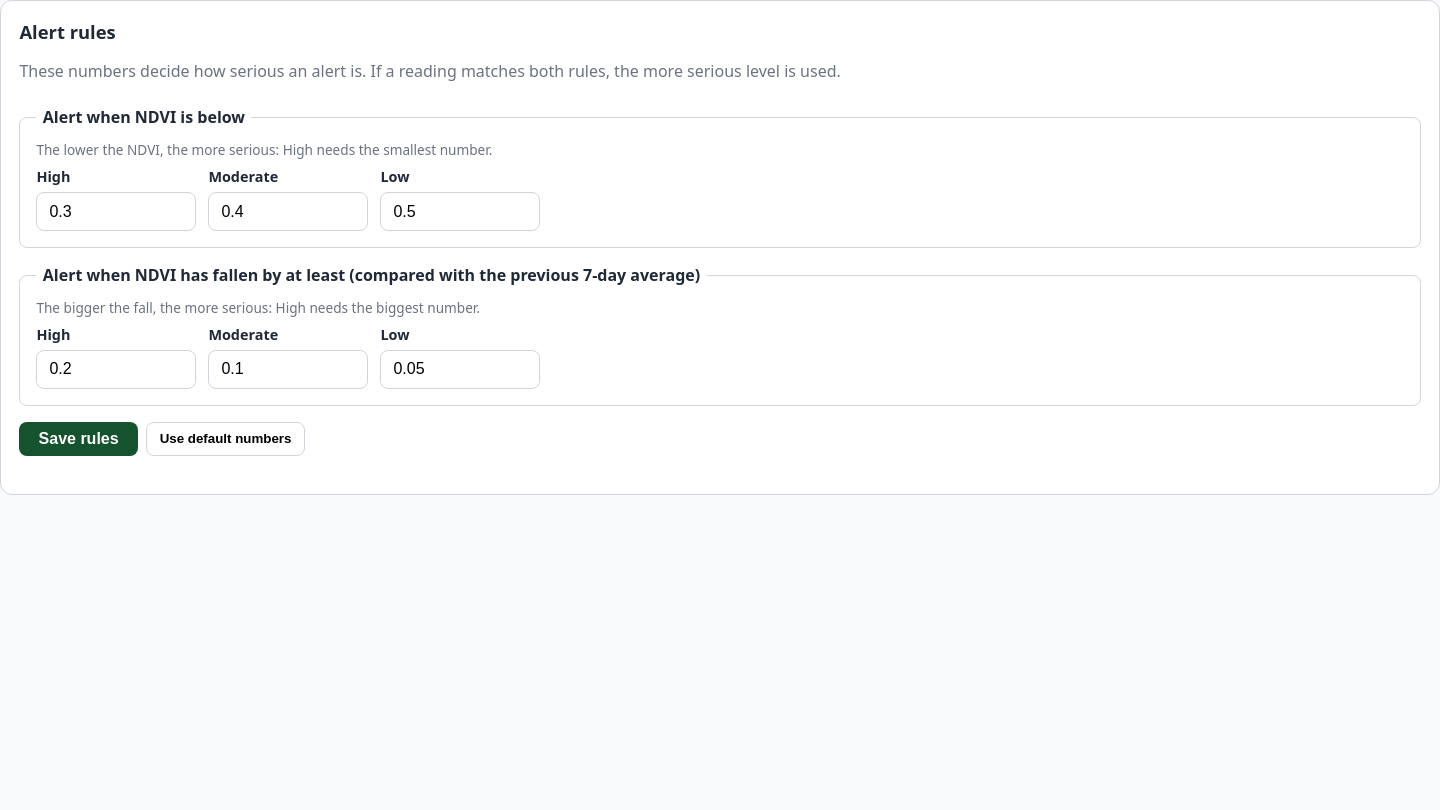
Test case: AlertRulesPanel Component Tests › should save input values as numbers and display a success status message
Replace the text in the number field labelled "High" below "Alert when NDVI is below" with "0.25": (116, 212) [36,192,196,231]
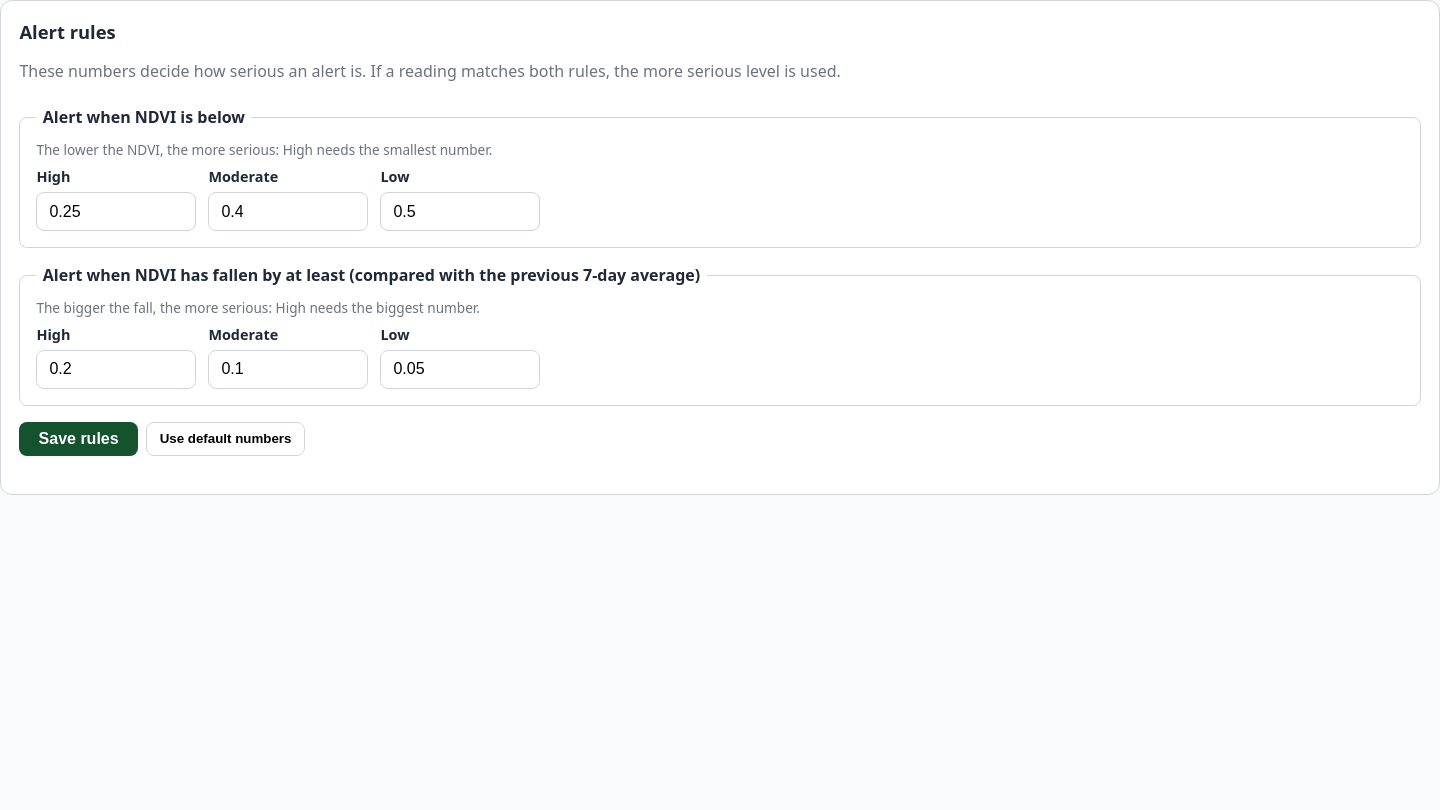
Click the button "Save rules": (79, 439) [19,422,138,456]
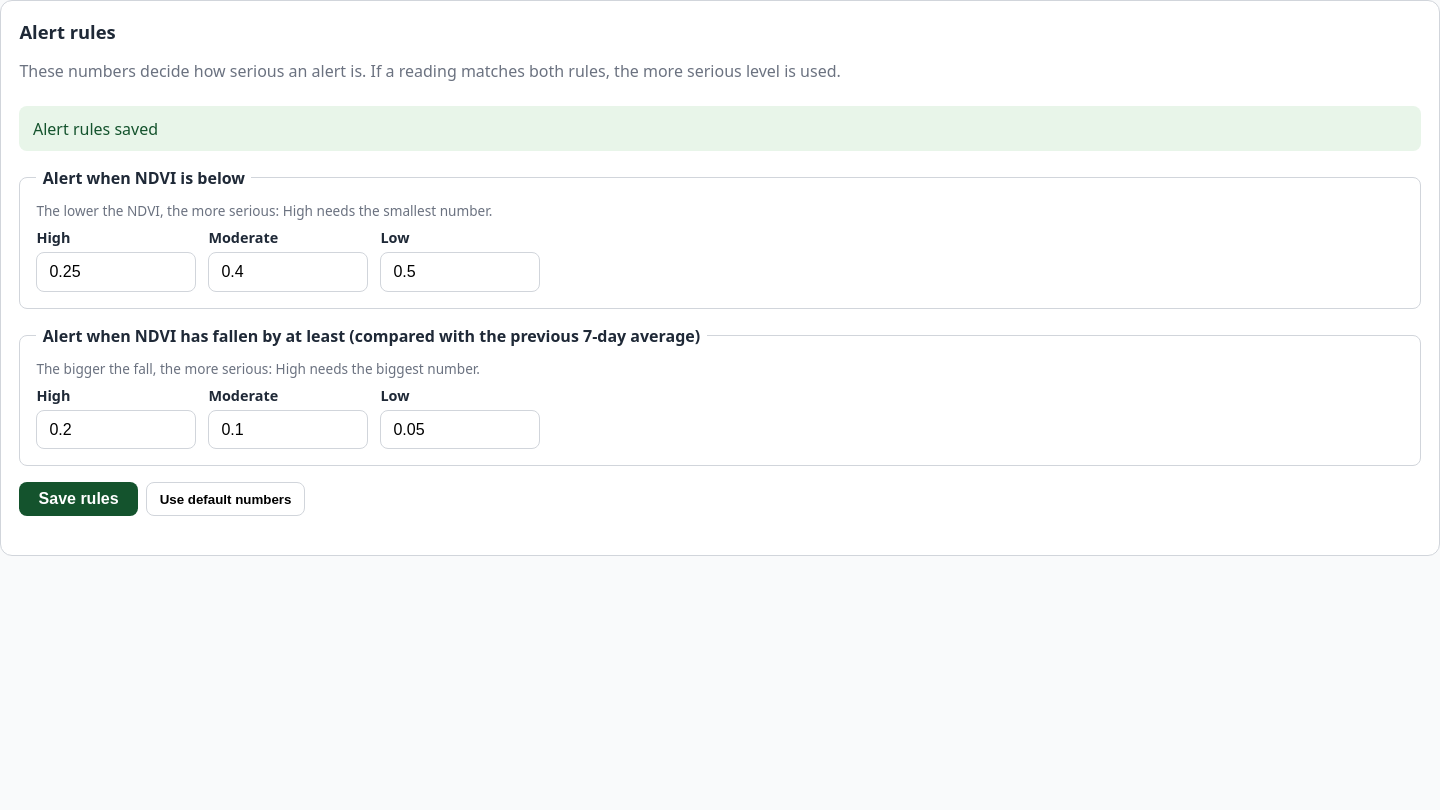
Expected: the message reads "Alert rules saved", [33,118,158,140]
